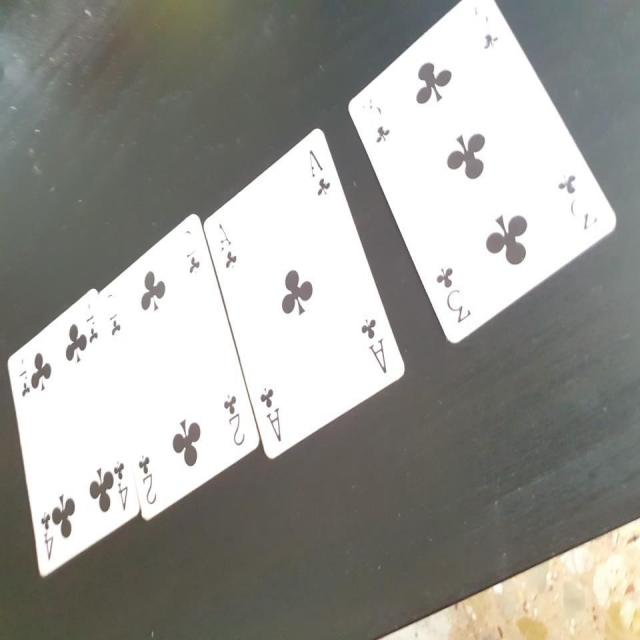2 Trefoils: (93, 210, 260, 517)
3 Trefoils: (347, 1, 618, 347)
4 Trefoils: (6, 287, 140, 582)
A Trefoils: (202, 127, 408, 461)
